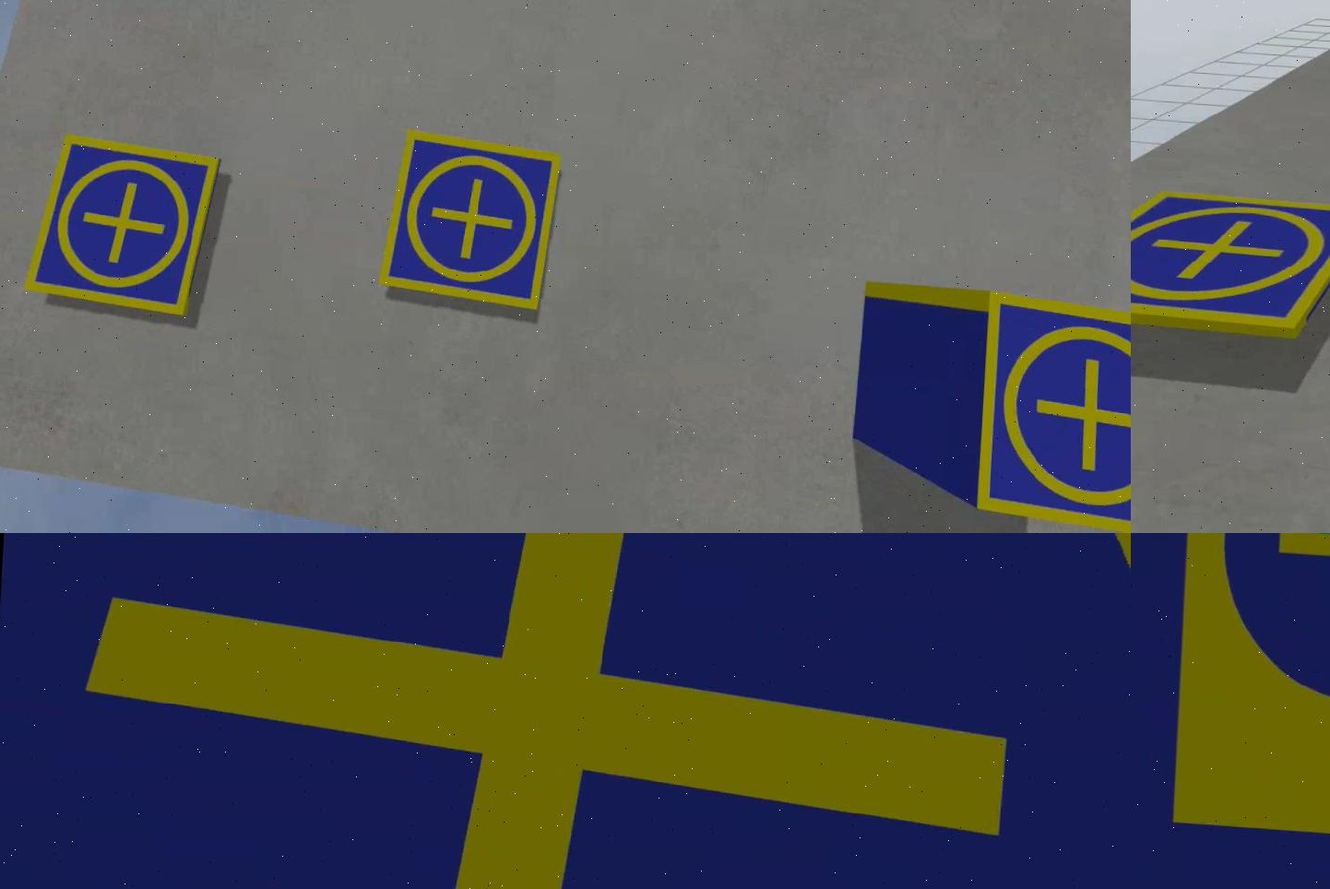large_base: (1129, 534, 1328, 889)
small_base: (0, 534, 1129, 889), (971, 290, 1129, 534), (19, 133, 219, 319), (374, 130, 561, 315), (1129, 180, 1328, 349)
